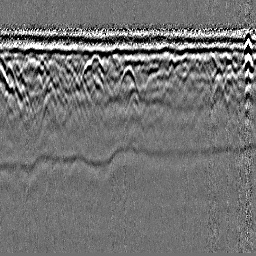cavity: (116, 62, 142, 102)
